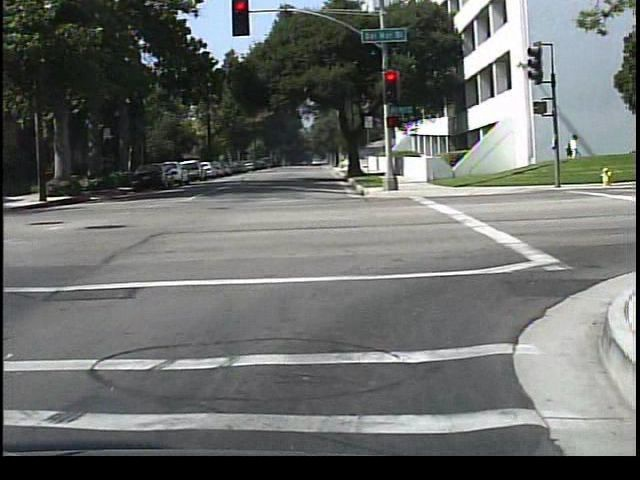person: (559, 126, 583, 179)
